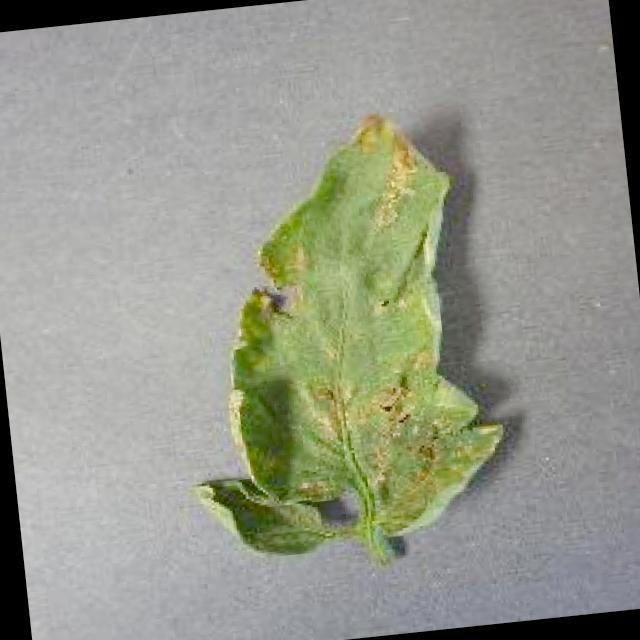Tomato bacterial spot leaf: (150, 91, 520, 566)
